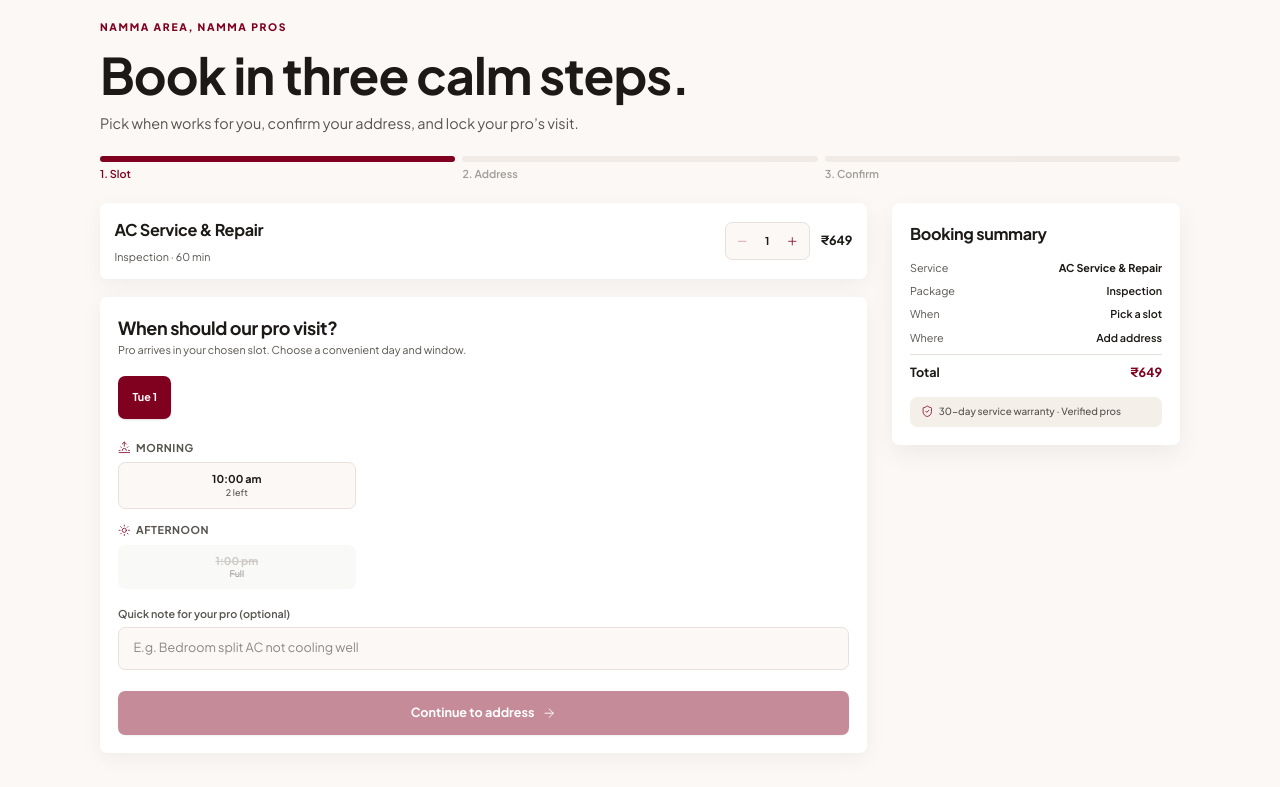
Test case: customer experience › completes slot-first 3-step booking flow and navigates on confirm
Later steps or results of the test are not shown.
Expected: the heading "When should our pro visit?" is shown, [118,316,337,339]
Click the button "10:00 am 2 left" at (237, 485), box [118,462,356,508]
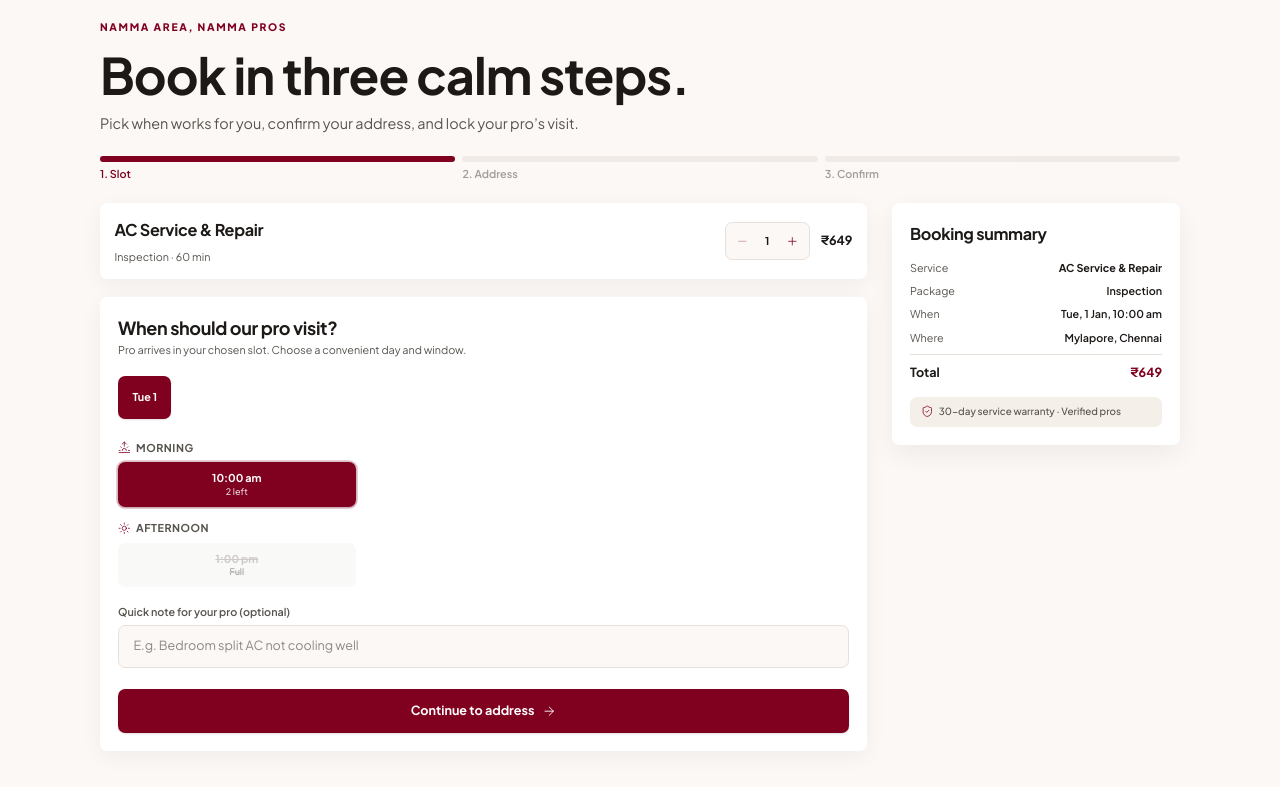
Click the button "Continue to address" at (483, 711), box [118,690,849,733]
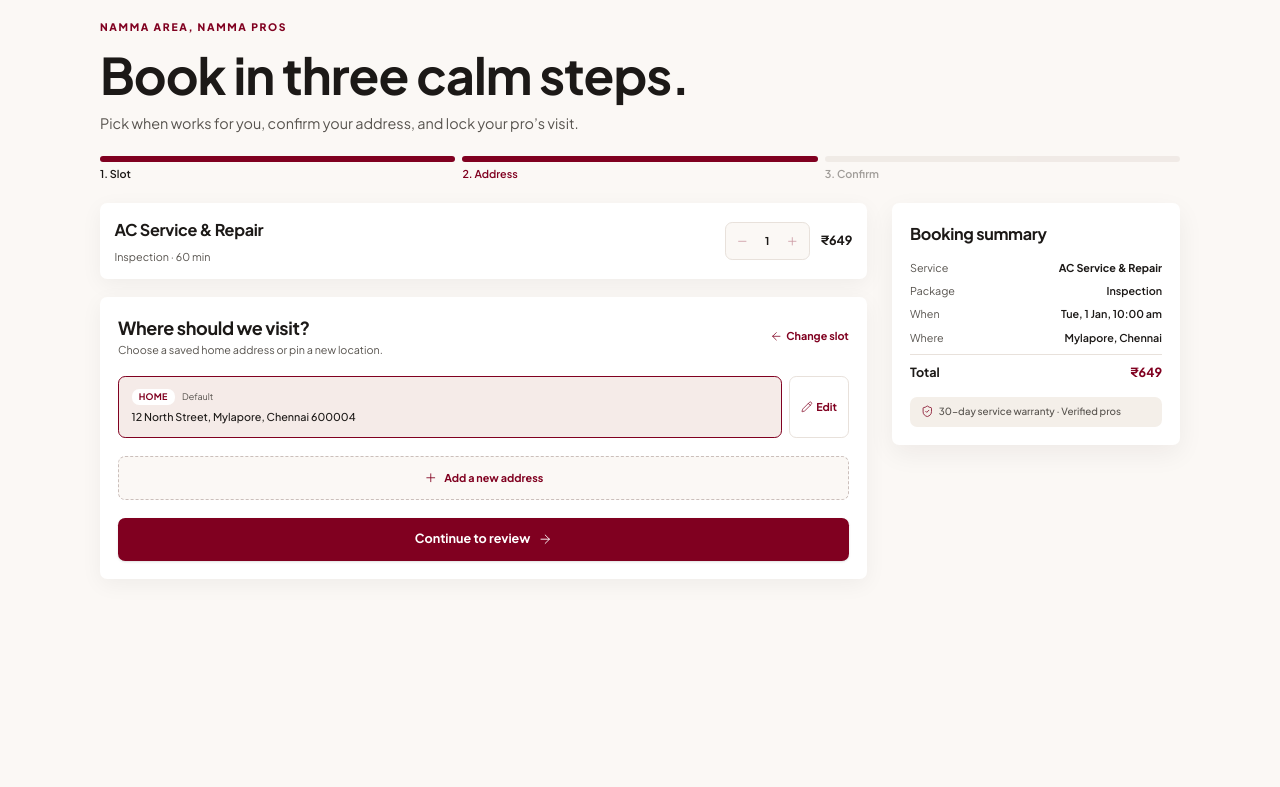
Expected: the heading "Where should we visit?" is shown, [118,316,310,339]
Click the button "Home Default 12 North Street, Mylapore, Chennai 600004" at (153, 397), box [118,376,782,438]
Click the button "Continue to review" at (483, 539), box [118,518,849,561]
(page scrolled)
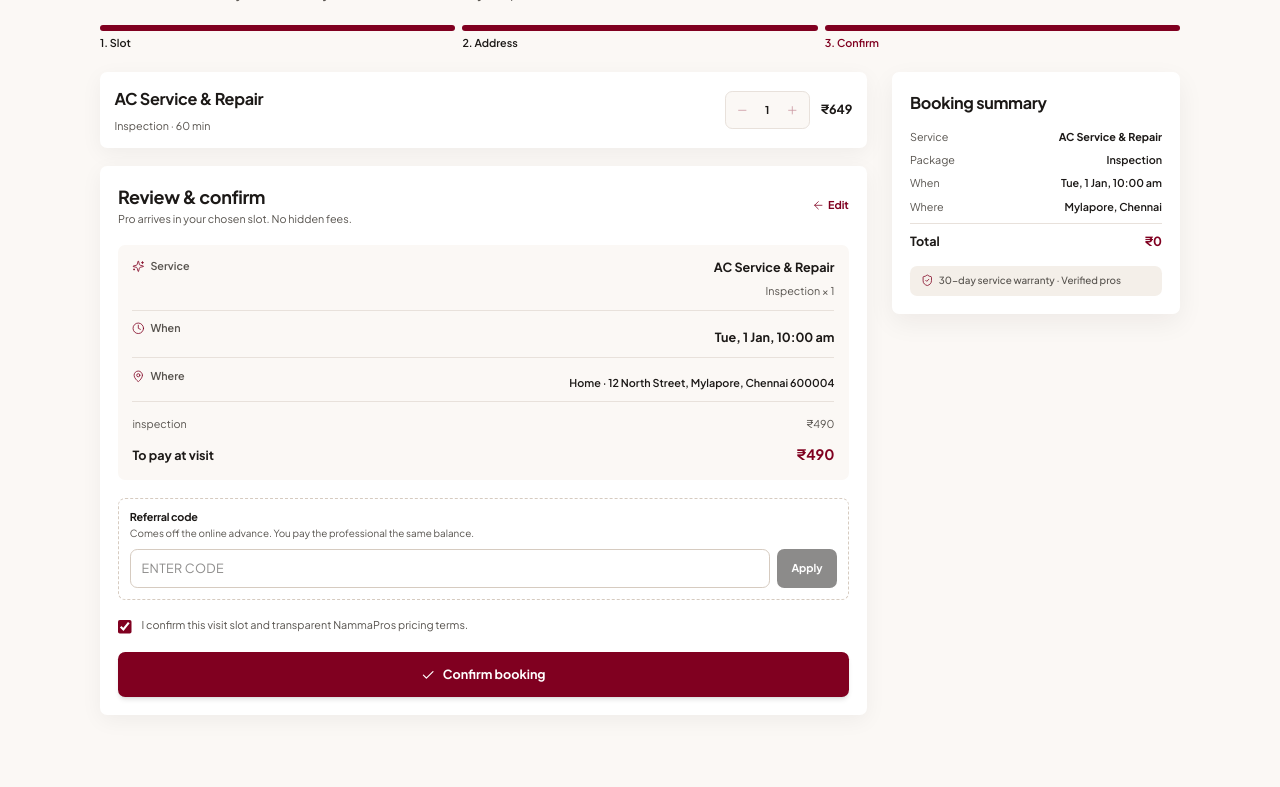
Expected: the heading "Review & confirm" is shown, [118,185,265,208]
